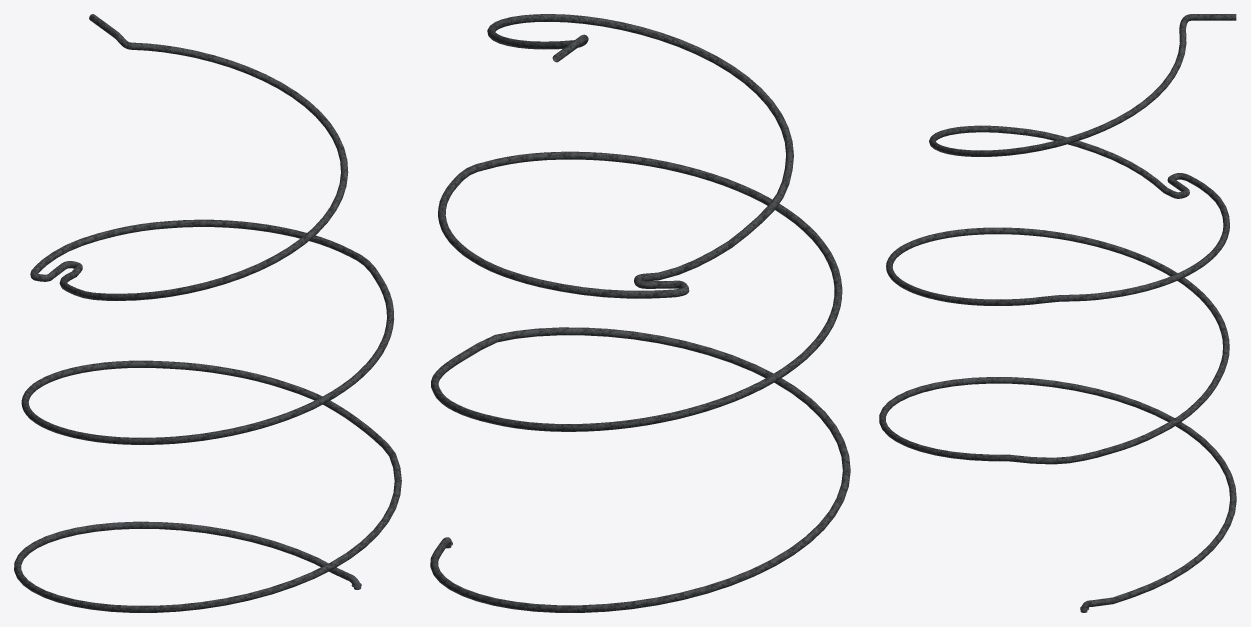
File: field_winter_pipe_centertower.fbx
3 renders of one model, left to right at view 1: azimuth 30°, elevation 25°; view 2: azimuth 150°, elevation 25°; view 3: azimuth 270°, elevation 25°, orthographic. The views are drawn at different scales.
Visible parts, largest first — view 1: field_winter_pipe_centertower2; view 2: field_winter_pipe_centertower2; view 3: field_winter_pipe_centertower2.
Part boxes in pixels (left/top/right/bottom): field_winter_pipe_centertower2: left=14, top=14, right=401, bottom=612; field_winter_pipe_centertower2: left=430, top=14, right=850, bottom=612; field_winter_pipe_centertower2: left=879, top=14, right=1236, bottom=612.
Bounding box in the file's own units: 1245 × 1977 × 1243.
Materials: 1 (1 with a texture image).
